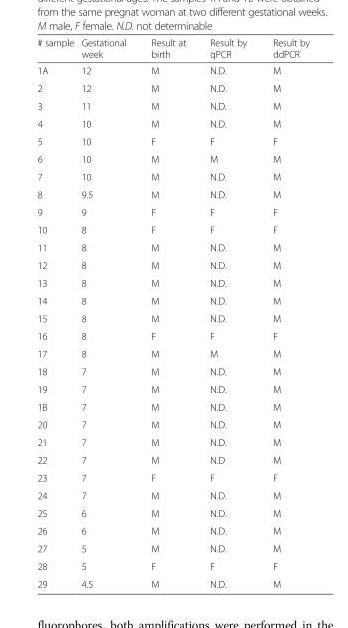table: (36, 36, 309, 589)
table column: (76, 36, 138, 589), (197, 36, 259, 589), (138, 36, 197, 589), (259, 36, 309, 589), (36, 36, 76, 589)
table column header: (36, 36, 309, 61)
table row: (36, 36, 309, 61), (36, 61, 309, 79), (36, 96, 309, 114), (36, 114, 309, 132), (36, 149, 309, 167), (36, 167, 309, 185), (36, 185, 309, 203), (36, 220, 309, 238), (36, 238, 309, 256), (36, 273, 309, 291), (36, 291, 309, 309), (36, 326, 309, 344), (36, 344, 309, 362), (36, 379, 309, 397), (36, 397, 309, 415), (36, 415, 309, 433), (36, 450, 309, 468), (36, 468, 309, 486), (36, 503, 309, 521), (36, 521, 309, 539), (36, 539, 309, 557), (36, 79, 309, 96), (36, 132, 309, 149), (36, 203, 309, 220), (36, 256, 309, 273), (36, 309, 309, 326), (36, 362, 309, 379), (36, 433, 309, 450), (36, 486, 309, 503), (36, 557, 309, 574), (36, 574, 309, 589)
